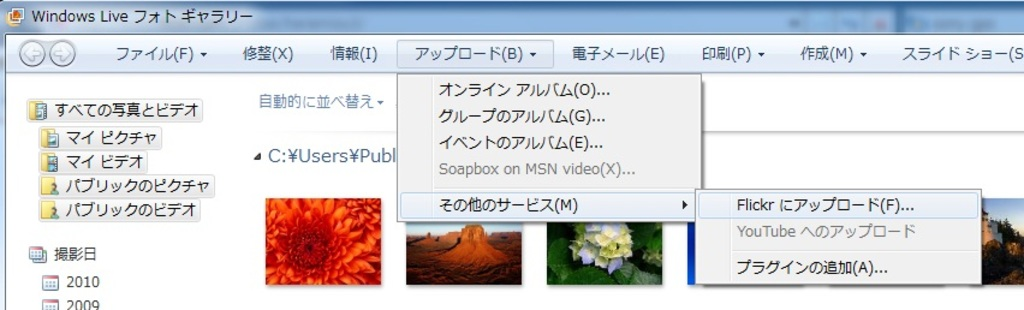Tree: (546, 219, 667, 289), (973, 194, 1022, 293)
